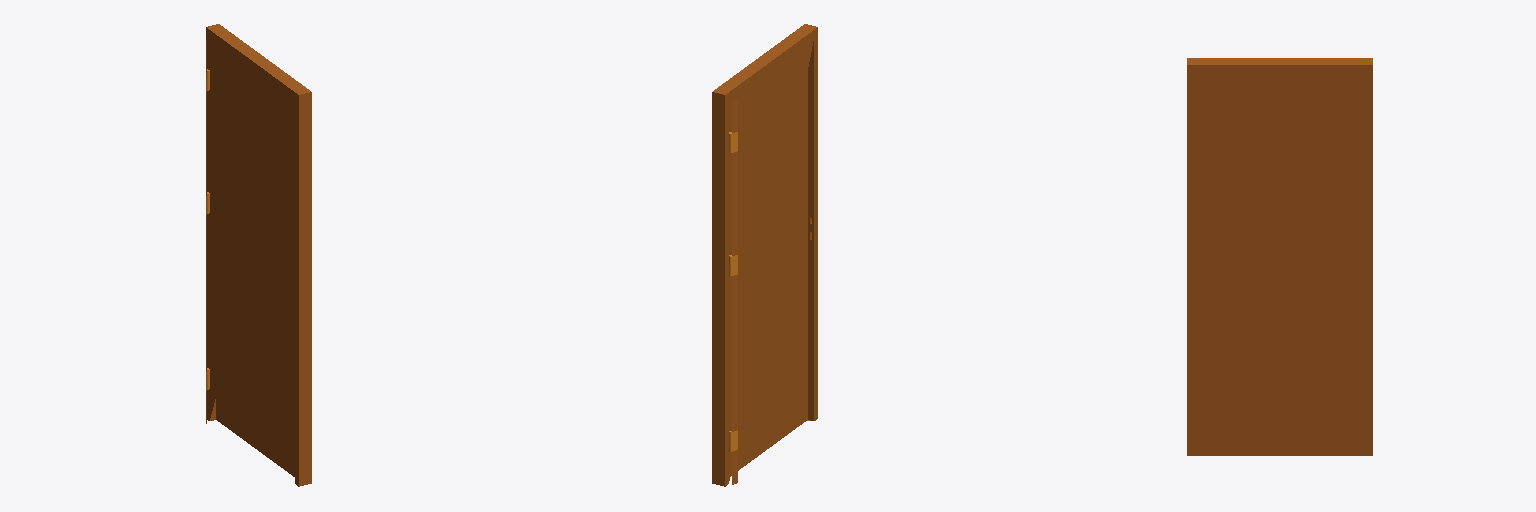
The model's file is marco.obj.
3 views of the same model, side by side, from view 1: azimuth 30°, elevation 25°; view 2: azimuth 150°, elevation 25°; view 3: azimuth 270°, elevation 25° (orthographic).
Parts seen in each view (by area): view 1: Mesh1 Model; view 2: Mesh1 Model; view 3: Mesh1 Model.
Boxes of the visible parts, x1=… form: Mesh1 Model: x1=206, y1=24, x2=311, y2=486; Mesh1 Model: x1=712, y1=24, x2=817, y2=486; Mesh1 Model: x1=1187, y1=58, x2=1372, y2=455.
Bounding box in the file's own units: 0.1006 × 2 × 0.86.